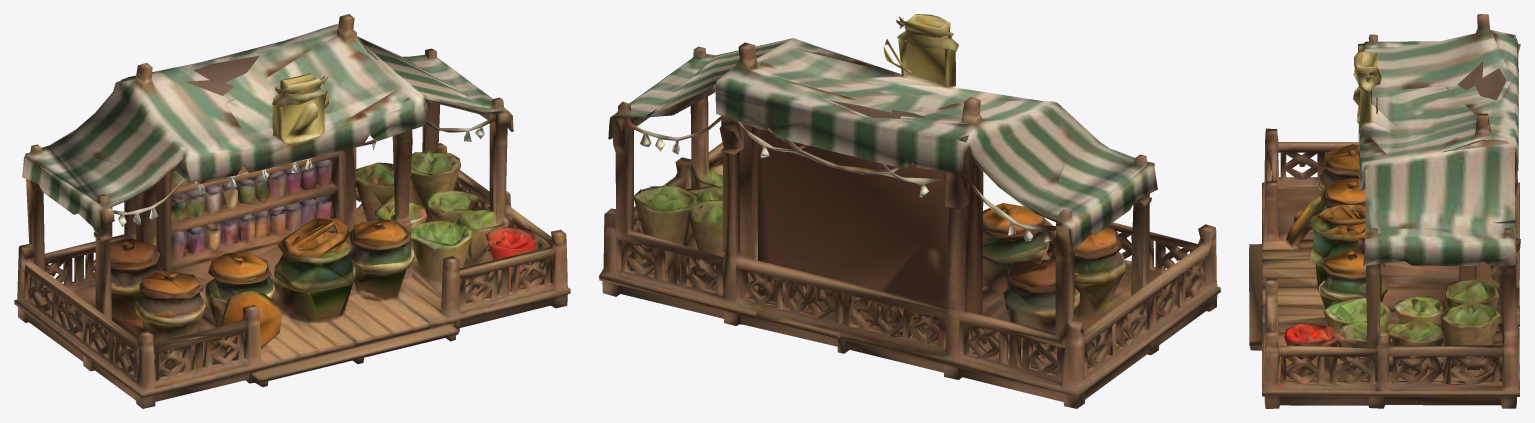
Rendered from yancai-3.glb.
The picture shows the model from 3 angles, left to right: view 1: azimuth 30°, elevation 25°; view 2: azimuth 150°, elevation 25°; view 3: azimuth 270°, elevation 25°; orthographic projection. The views are drawn at different scales.
Visible parts, largest first — view 1: node_0; view 2: node_0; view 3: node_0.
Part boxes in pixels (x1,y1,x2,y2): node_0: (14,14,570,408); node_0: (599,14,1220,408); node_0: (1249,14,1520,408).
Size of the model in its own units: 0.9618 by 0.5207 by 0.5253.
1 material, 1 textured.
